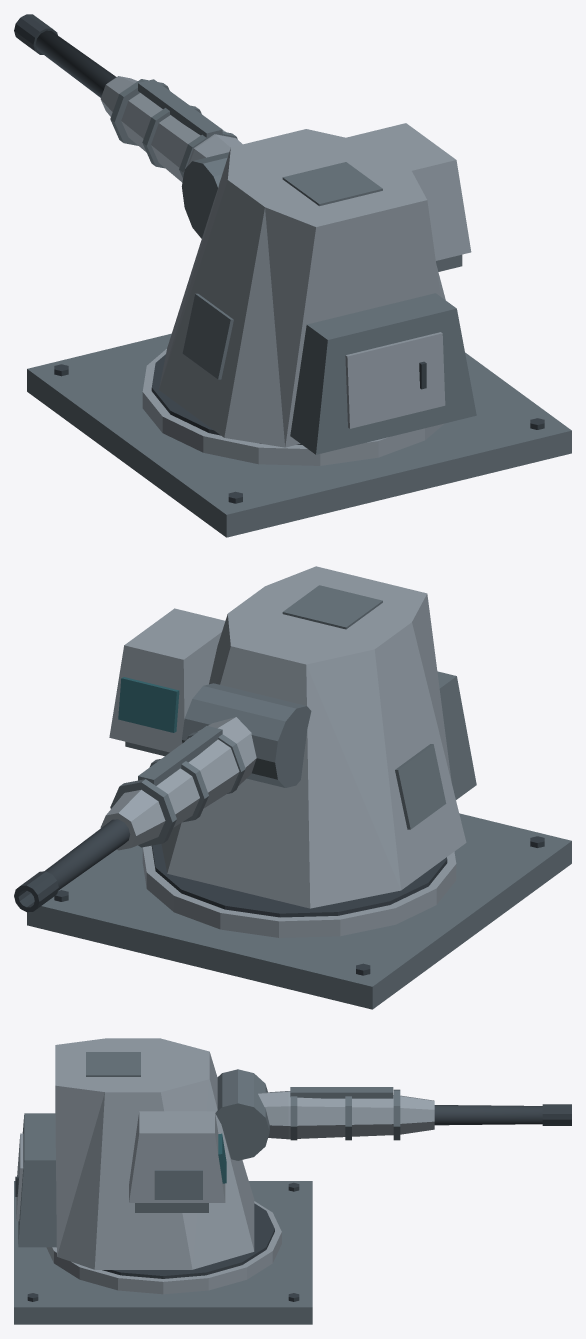
The model's file is MOD_Gun76_U2.fbx.
3 renders of one model, top to bottom at view 1: azimuth 30°, elevation 25°; view 2: azimuth 150°, elevation 25°; view 3: azimuth 270°, elevation 25°, orthographic. The views are drawn at different scales.
Parts seen in each view (by area): view 1: TurretPivot_Visual_Naval_Blue_Grey, FixedDeckFoot, TurretPivot_Visual_Deck_Grey, FixedBearingPlinth, ElevationPivot_Visual_Deck_Grey, FacetedCoolingShroud, ElevationPivot_Visual_Gunmetal, MOD_Gun76_U2_Root_Visual_Gunmetal; view 2: TurretPivot_Visual_Naval_Blue_Grey, FixedDeckFoot, ElevationPivot_Visual_Deck_Grey, TurretPivot_Visual_Deck_Grey, FixedBearingPlinth, FacetedCoolingShroud, MOD_Gun76_U2_Root_Visual_Gunmetal, ElevationPivot_Visual_Gunmetal, GuidanceForwardWindow; view 3: TurretPivot_Visual_Naval_Blue_Grey, FixedDeckFoot, TurretPivot_Visual_Deck_Grey, ElevationPivot_Visual_Deck_Grey, FacetedCoolingShroud, FixedBearingPlinth, ElevationPivot_Visual_Gunmetal, MOD_Gun76_U2_Root_Visual_Gunmetal.
Part boxes in pixels (x1=…): TurretPivot_Visual_Naval_Blue_Grey: x1=159, y1=123, x2=471, y2=447; FixedDeckFoot: x1=27, y1=333, x2=571, y2=537; TurretPivot_Visual_Deck_Grey: x1=182, y1=162, x2=476, y2=454; FixedBearingPlinth: x1=142, y1=349, x2=443, y2=465; ElevationPivot_Visual_Deck_Grey: x1=110, y1=79, x2=237, y2=238; FacetedCoolingShroud: x1=100, y1=76, x2=242, y2=182; ElevationPivot_Visual_Gunmetal: x1=14, y1=14, x2=116, y2=97; MOD_Gun76_U2_Root_Visual_Gunmetal: x1=54, y1=354, x2=544, y2=503; TurretPivot_Visual_Naval_Blue_Grey: x1=109, y1=566, x2=466, y2=908; FixedDeckFoot: x1=27, y1=813, x2=571, y2=1009; ElevationPivot_Visual_Deck_Grey: x1=110, y1=683, x2=311, y2=847; TurretPivot_Visual_Deck_Grey: x1=125, y1=585, x2=476, y2=829; FixedBearingPlinth: x1=142, y1=845, x2=456, y2=937; FacetedCoolingShroud: x1=100, y1=717, x2=256, y2=850; MOD_Gun76_U2_Root_Visual_Gunmetal: x1=54, y1=836, x2=544, y2=975; ElevationPivot_Visual_Gunmetal: x1=14, y1=819, x2=130, y2=912; GuidanceForwardWindow: x1=118, y1=677, x2=179, y2=732; TurretPivot_Visual_Naval_Blue_Grey: x1=16, y1=1038, x2=254, y2=1269; FixedDeckFoot: x1=14, y1=1181, x2=312, y2=1324; TurretPivot_Visual_Deck_Grey: x1=18, y1=1052, x2=208, y2=1247; ElevationPivot_Visual_Deck_Grey: x1=215, y1=1069, x2=400, y2=1160; FacetedCoolingShroud: x1=258, y1=1091, x2=434, y2=1139; FixedBearingPlinth: x1=46, y1=1201, x2=281, y2=1294; ElevationPivot_Visual_Gunmetal: x1=434, y1=1104, x2=571, y2=1125; MOD_Gun76_U2_Root_Visual_Gunmetal: x1=27, y1=1182, x2=299, y2=1301.
Bounding box in the file's own units: 174 × 127 × 325.
